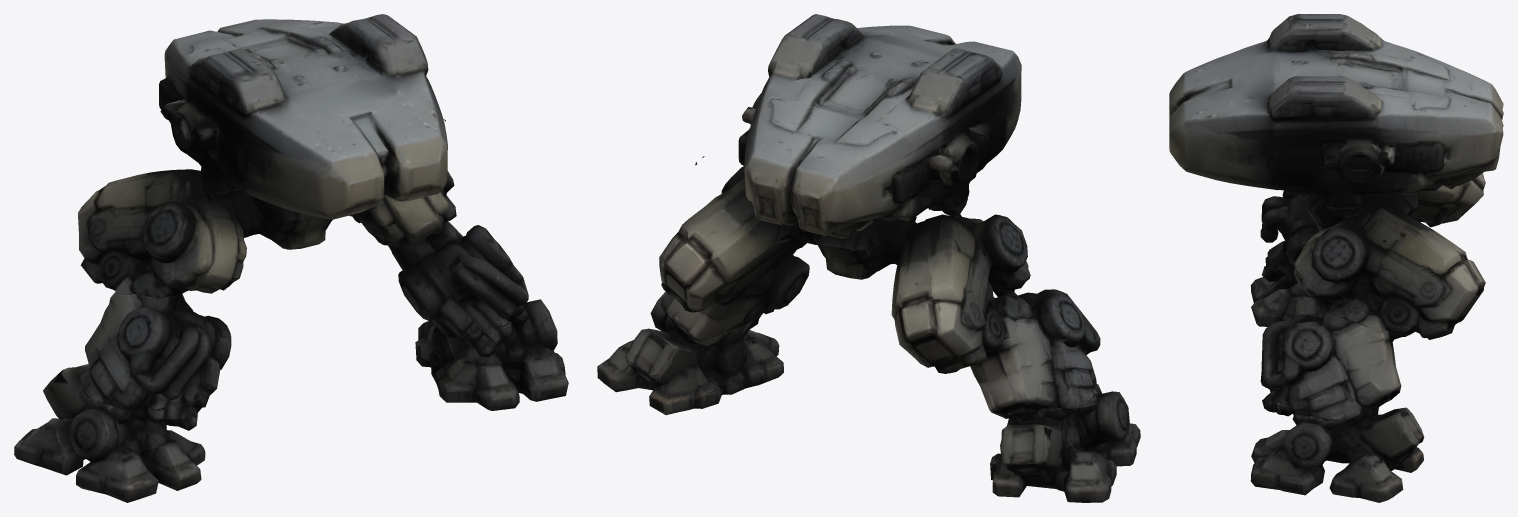
The model's file is heavy_26cbe_v2.glb.
3 renders of one model, left to right at view 1: azimuth 30°, elevation 25°; view 2: azimuth 150°, elevation 25°; view 3: azimuth 270°, elevation 25°, orthographic. The views are drawn at different scales.
Parts seen in each view (by area): view 1: hull, thigh_l, foot_l, shin_l, foot_r, shin_r, thigh_r, pelvis; view 2: hull, thigh_l, foot_l, foot_r, shin_l, thigh_r, shin_r, pelvis; view 3: hull, thigh_r, foot_r, shin_r, shin_l, foot_l, thigh_l, pelvis.
Boxes of the visible parts, <box> form: hull: <box>159,14,447,219</box>; thigh_l: <box>78,169,246,297</box>; foot_l: <box>14,363,205,502</box>; shin_l: <box>78,288,231,410</box>; foot_r: <box>415,299,568,410</box>; shin_r: <box>375,221,528,341</box>; thigh_r: <box>349,119,456,246</box>; pelvis: <box>224,192,332,249</box>; hull: <box>738,14,1021,238</box>; thigh_l: <box>891,198,1030,373</box>; foot_l: <box>990,384,1140,502</box>; foot_r: <box>597,291,783,414</box>; shin_l: <box>948,289,1100,414</box>; thigh_r: <box>659,156,806,312</box>; shin_r: <box>660,244,809,341</box>; pelvis: <box>776,207,930,279</box>; hull: <box>1169,14,1503,207</box>; thigh_r: <box>1294,205,1485,337</box>; foot_r: <box>1250,390,1424,502</box>; shin_r: <box>1260,296,1443,420</box>; shin_l: <box>1260,190,1441,271</box>; foot_l: <box>1250,266,1351,326</box>; thigh_l: <box>1299,173,1485,223</box>; pelvis: <box>1304,184,1455,231</box>.
Size of the model in its own units: 6.21 by 4.33 by 3.86.
1 material, 1 textured.
